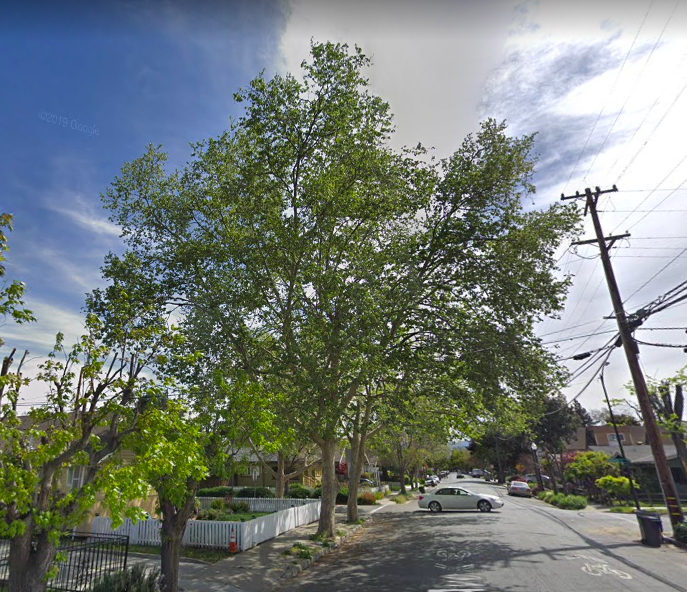tree: (80, 33, 588, 542)
